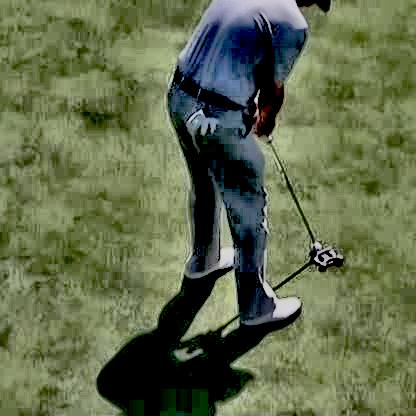golfball: (307, 242, 320, 249)
